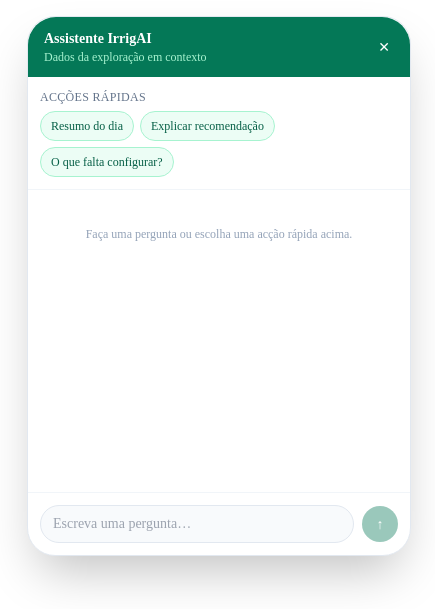
Test: ChatPanel › loading a conversation while an action is confirming (review 2026-09-23, B4) › reports the committed action instead of stranding the spinner
Type "calibrar" into the field with placeholder "Escreva uma pergunta…".
click(197, 524); type("calibrar")  # box [40,505,354,543]
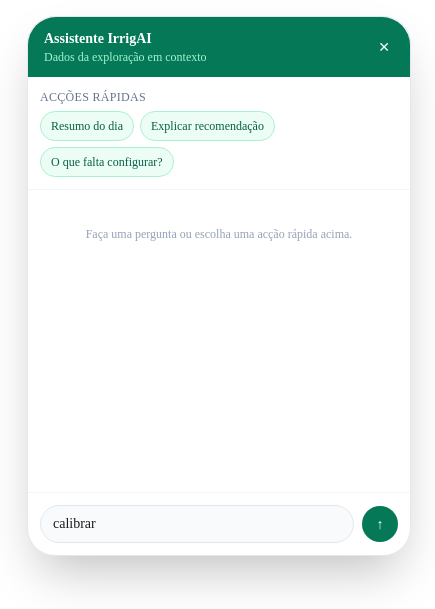
Click the button named "Enviar".
click(380, 524)  # box [362,506,398,542]
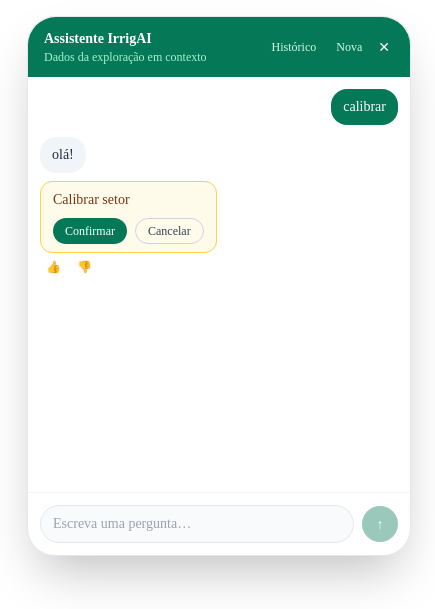
Click the button "Confirmar".
click(90, 231)  # box [53,218,127,244]
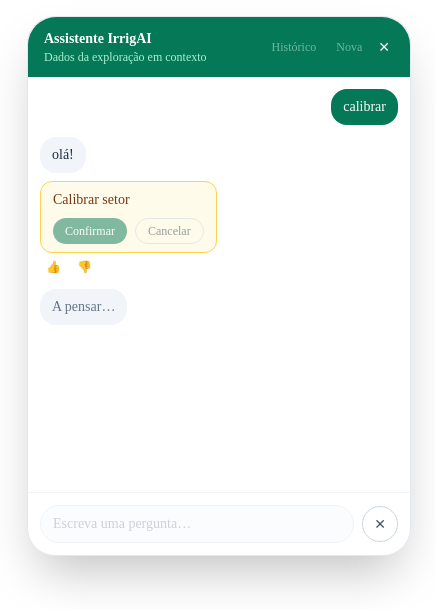
Click the button with aria-label "Conversas anteriores".
click(294, 47)  # box [264,35,324,59]
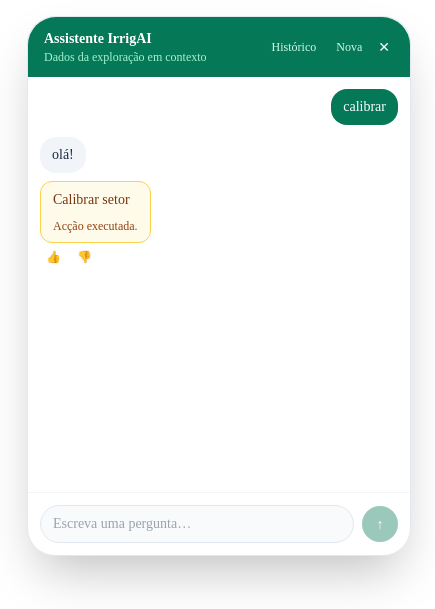
Now the field with placeholder "Escreva uma pergunta…" is enabled, box [40,505,354,543]
Now the text "A pensar" is gone
